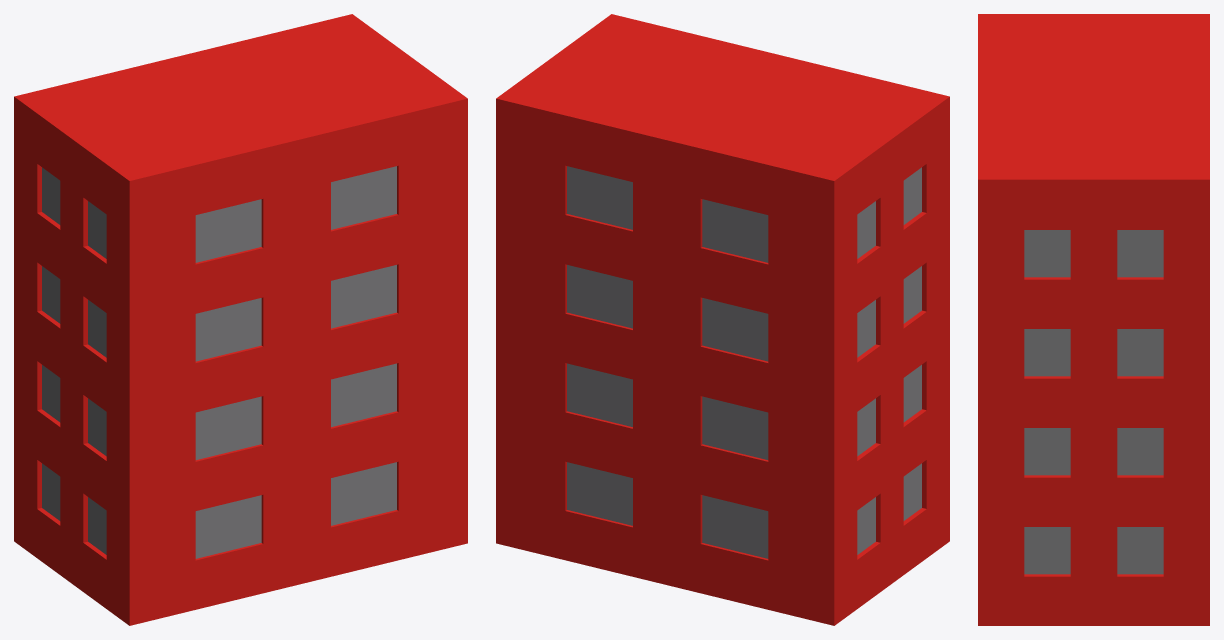
The model's file is RedSkyscraper.fbx.
3 renders of one model, left to right at view 1: azimuth 30°, elevation 25°; view 2: azimuth 150°, elevation 25°; view 3: azimuth 270°, elevation 25°, orthographic.
Parts seen in each view (by area): view 1: Building.002; view 2: Building.002; view 3: Building.002.
Boxes of the visible parts, x1,y1,x2,y2 form: Building.002: [14, 14, 467, 625]; Building.002: [496, 14, 949, 625]; Building.002: [978, 14, 1209, 625].
Bounding box in the file's own units: 16.91 × 21.24 × 10.
